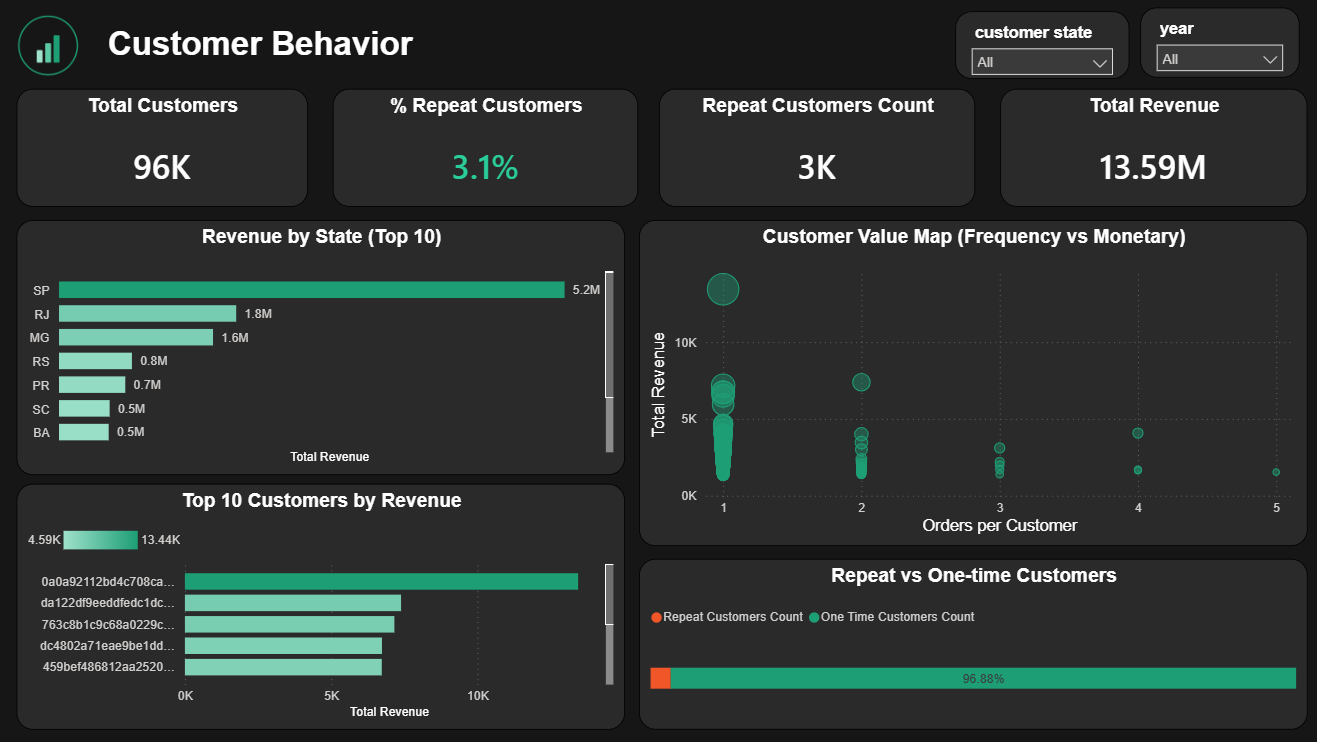

Layout of this report page (visuals, bound fields, positions):
{"tool":"powerbi","page":{"name":"Customer Behavior","canvas":[1280,720],"ordinal":4},"visuals":[{"type":"cardVisual","title":"Total Customers","fields":{"Data":["_Measures.Total Customers"]},"box":[16.7,85.9,282.2,114.2],"z":0},{"type":"cardVisual","title":"Total Revenue","fields":{"Data":["_Measures.Total Revenue"]},"box":[969.8,85.9,297.6,114.2],"z":1000},{"type":"cardVisual","title":"Repeat Customers Count","fields":{"Data":["_Measures.Repeat Customers Count"]},"box":[640.1,85.9,306.6,114.2],"z":2000},{"type":"slicer","fields":{"Values":["dim_date.year"]},"box":[1105.8,7.8,154.1,67.9],"z":3000},{"type":"slicer","fields":{"Values":["dim_customer.customer_state"]},"box":[927,10.4,168.4,65.3],"z":4000},{"type":"clusteredBarChart","title":"Top 10 Customers by Revenue","fields":{"Category":["dim_customer.customer_unique_id"],"Y":["_Measures.Total Revenue"]},"box":[17,468.8,589.9,238.6],"z":5000},{"type":"clusteredBarChart","title":"Revenue by State (Top 10)","fields":{"Category":["dim_customer.customer_state"],"Y":["_Measures.Total Revenue"]},"box":[17,213.2,589.9,247.1],"z":6000},{"type":"hundredPercentStackedBarChart","title":"Repeat vs One-time Customers","fields":{"Y":["_Measures.Repeat Customers Count","_Measures.One Time Customers Count"]},"box":[620.2,541.5,648.1,166],"z":7000},{"type":"textbox","box":[100.5,19.4,397.5,95],"z":8000},{"type":"cardVisual","title":"% Repeat Customers","fields":{"Data":["_Measures.% Repeat Customers"]},"box":[323.3,85.9,296.3,114.2],"z":9000},{"type":"scatterChart","title":"Customer Value Map (Frequency vs Monetary)","fields":{"Series":["dim_customer.customer_unique_id"],"Size":["_Measures.Average Order Value"],"X":["_Measures.Orders per Customer"],"Y":["_Measures.Total Revenue"]},"box":[620.2,213.2,648.1,316.2],"z":10000},{"type":"image","box":[0,10.9,95.7,66.6],"z":11000}]}

Visuals, with their boxes in screenshot pixels (x1, y1, x2, y2), scaled from the page's 1280x720 canvas onto the 1317x742 screenshot:
"Total Customers" cardVisual: 17 89 308 206
"Total Revenue" cardVisual: 998 89 1304 206
"Repeat Customers Count" cardVisual: 659 89 974 206
slicer - dim_date.year: 1138 8 1296 78
slicer - dim_customer.customer_state: 954 11 1127 78
"Top 10 Customers by Revenue" clusteredBarChart: 17 483 624 729
"Revenue by State (Top 10)" clusteredBarChart: 17 220 624 474
"Repeat vs One-time Customers" hundredPercentStackedBarChart: 638 558 1305 729
textbox: 103 20 512 118
"% Repeat Customers" cardVisual: 333 89 638 206
"Customer Value Map (Frequency vs Monetary)" scatterChart: 638 220 1305 546
image: 0 11 98 80
